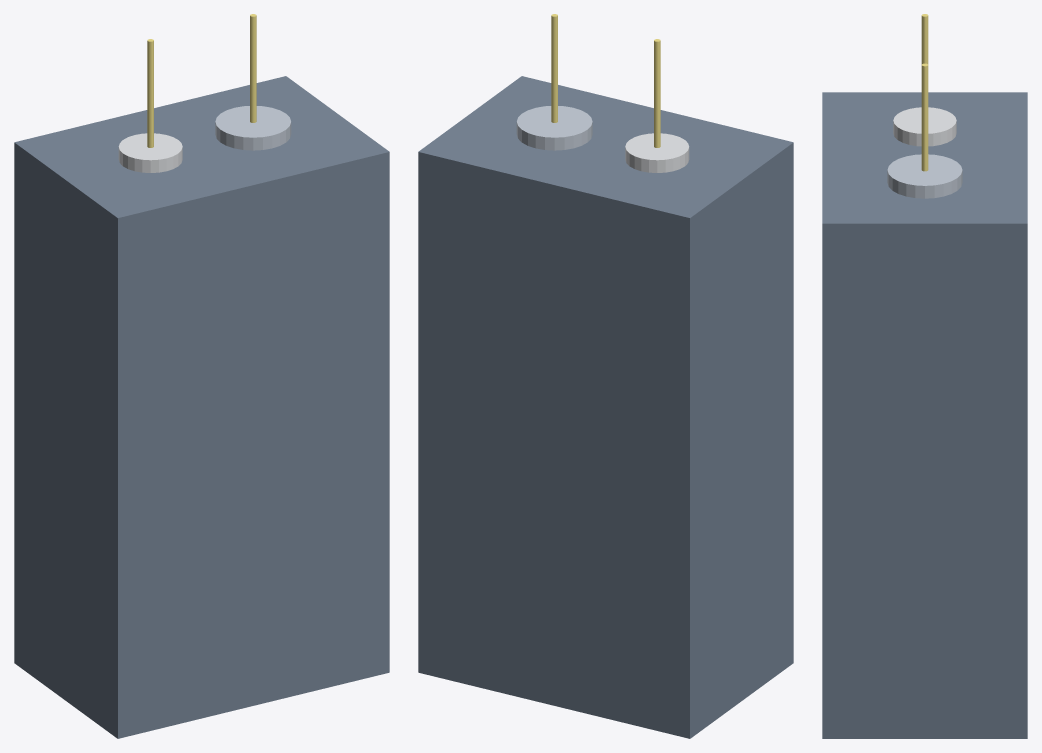
Rendered from battery-9v.glb.
3 views of the same model, side by side, from view 1: azimuth 30°, elevation 25°; view 2: azimuth 150°, elevation 25°; view 3: azimuth 270°, elevation 25° (orthographic).
Visible parts, largest first — view 1: battery-9v_mesh; view 2: battery-9v_mesh; view 3: battery-9v_mesh.
Part boxes in pixels (x1=…): battery-9v_mesh: x1=14, y1=14, x2=389, y2=738; battery-9v_mesh: x1=418, y1=14, x2=793, y2=738; battery-9v_mesh: x1=822, y1=14, x2=1027, y2=738.
Size of the model in its own units: 26.5 by 59.6 by 17.5.
